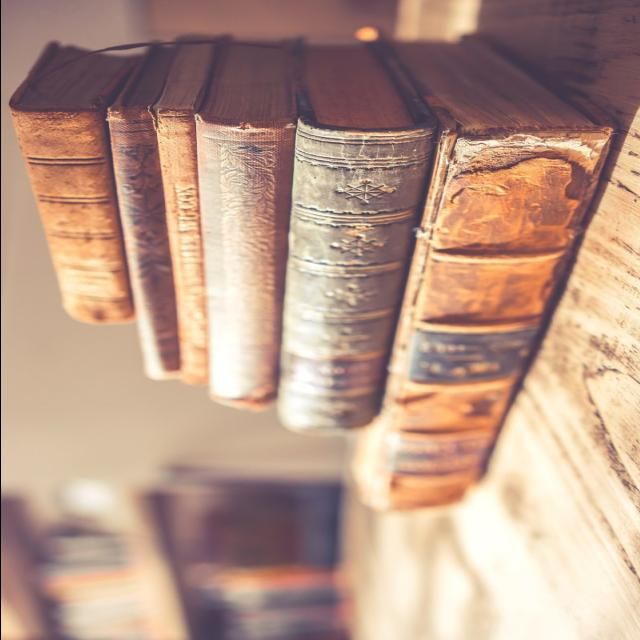book: (274, 39, 400, 467)
